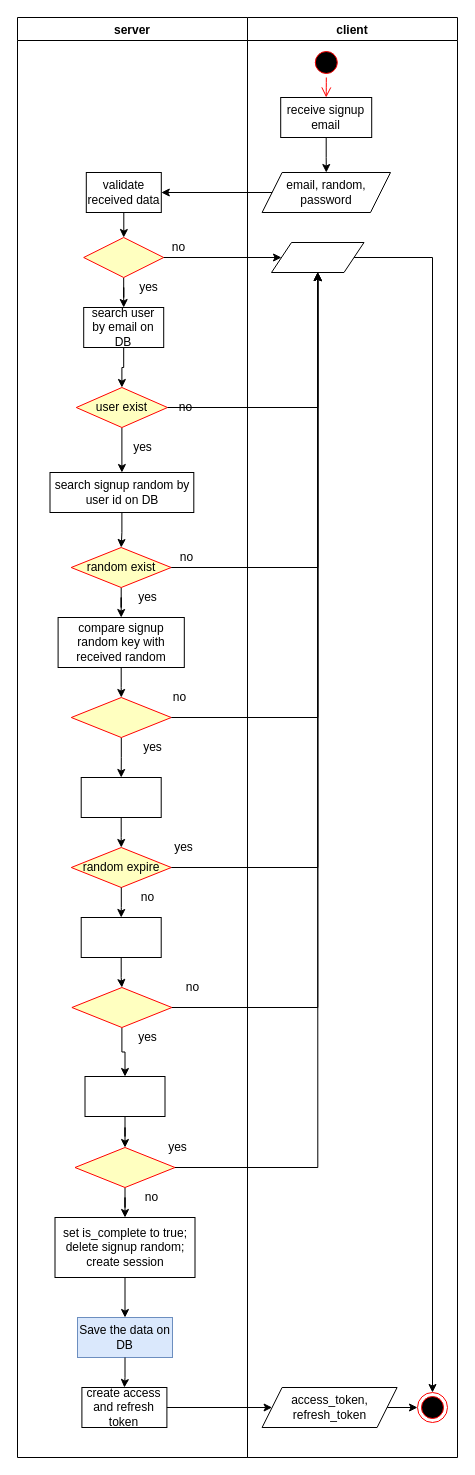
This 475x1475 diagram has some shape labels left out. The shapes that lost their labels are listed below. From the top down, each one's centre as x and y in pixels, then its label:
At [123,257]: "is valid".
At [317,257]: "error message".
At [120,717]: "random equals".
At [120,797]: "check signup random expiration".
At [120,937]: "compare user passwords".
At [121,1007]: "passwods equals".
At [124,1096]: "check signup status".
At [124,1167]: "complete signup".
